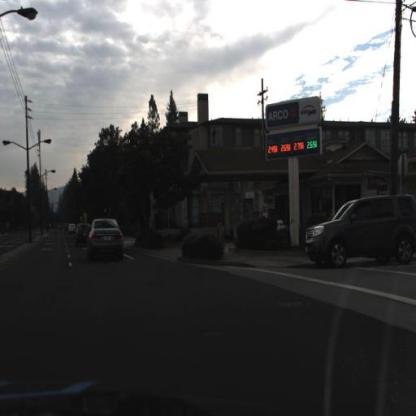car: (305, 194, 416, 275), (87, 217, 127, 264), (76, 223, 95, 252), (76, 222, 93, 250)
